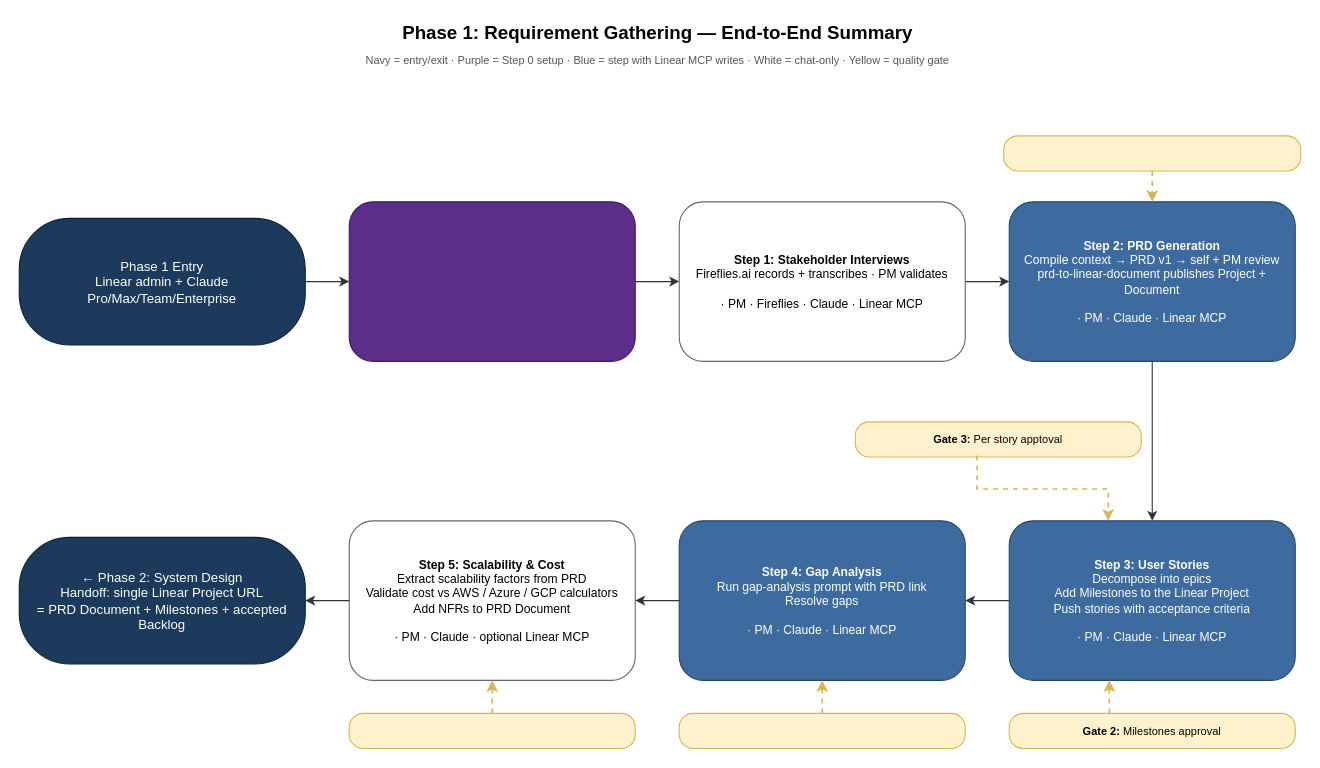
Image size: 1320x768. Some labels were removed from this diagram. The shapes that lost their labels are listed below. From the top down, each one's centre as x and y in pixels, then its label:
At point (1152, 153): "Gate 1 — PRD approval in Linear".
At point (491, 281): "Step 0: One-Time Setup Wire Claude ↔ Linear MCP · Admins · Claude · Linear MCP".
At point (491, 730): "Final Gate: Handoff readiness".
At point (821, 730): "Gate 4: Gap severity reviewed".
